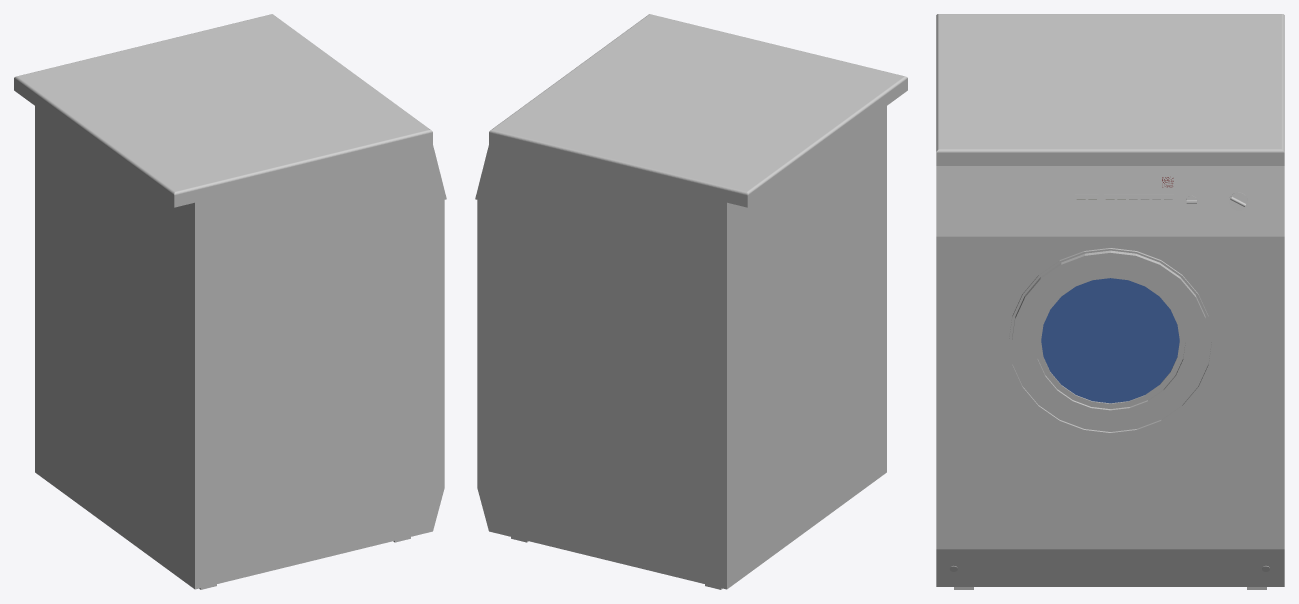
3 renders of one model, left to right at view 1: azimuth 30°, elevation 25°; view 2: azimuth 150°, elevation 25°; view 3: azimuth 270°, elevation 25°, orthographic. The views are drawn at different scales.
Parts seen in each view (by area): view 1: mesh8.001_mesh8-geometry; view 2: mesh8.001_mesh8-geometry; view 3: mesh8.001_mesh8-geometry, mesh1.001_mesh1-geometry.
Boxes of the visible parts, x1=… form: mesh8.001_mesh8-geometry: x1=14, y1=14, x2=446, y2=589; mesh8.001_mesh8-geometry: x1=475, y1=14, x2=907, y2=589; mesh8.001_mesh8-geometry: x1=936, y1=14, x2=1284, y2=589; mesh1.001_mesh1-geometry: x1=1009, y1=248, x2=1211, y2=432.
Bounding box in the file's own units: 0.4964 × 0.7092 × 0.5006.
